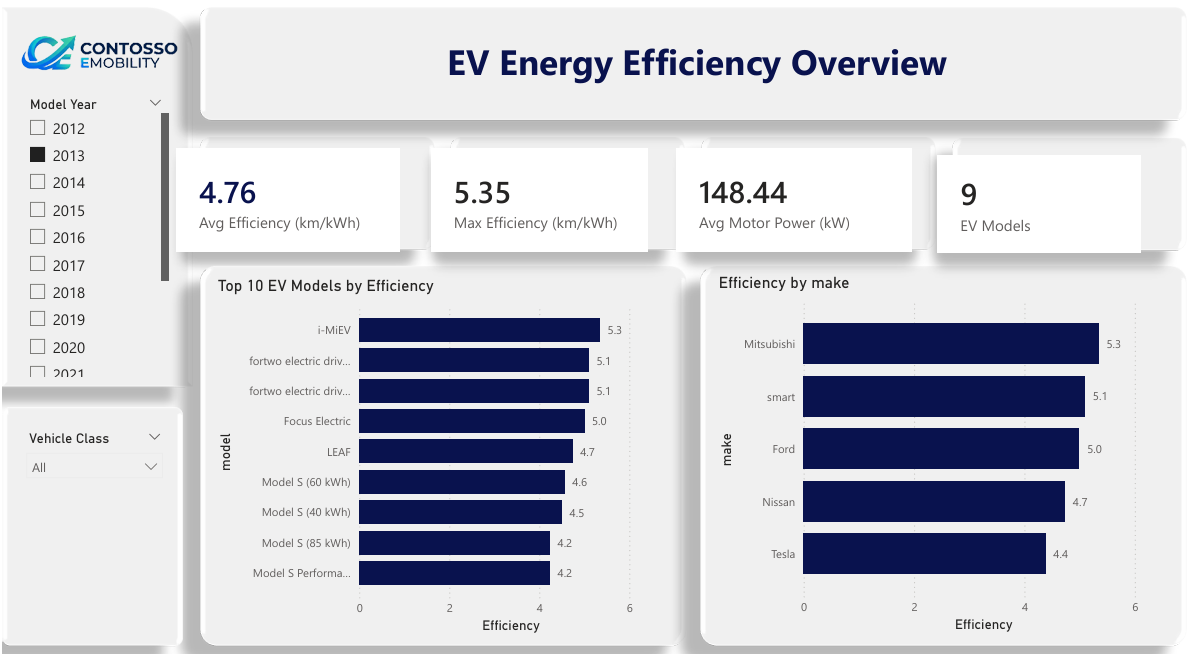

What the dashboard file says about the page in this screenshot:
{"tool":"powerbi","page":{"name":"Page 1","canvas":[1280,720],"ordinal":0},"visuals":[{"type":"clusteredBarChart","title":"Top 10 EV Models by Efficiency","fields":{"Category":["ev_metrics.model"],"Y":["Calculations.AVG Efficiency"]},"box":[222.8,312.3,486.3,382.2],"z":0},{"type":"slicer","fields":{"Values":["ev_metrics.model_year"]},"box":[16.3,117.1,164.3,305.8],"z":1},{"type":"clusteredBarChart","fields":{"Category":["ev_metrics.make"],"Y":["Calculations.AVG Efficiency"]},"box":[754,308,485.7,385.5],"z":2},{"type":"cardVisual","fields":{"Data":["Calculations.AVG Efficiency"]},"box":[178.9,172.4,247.2,120.4],"z":3},{"type":"cardVisual","fields":{"Data":["Calculations.Max Efficiency"]},"box":[448.9,172.4,239.1,120.4],"z":4},{"type":"slicer","fields":{"Values":["ev_metrics.vehicle_class"]},"box":[15.1,470.6,164.4,223],"z":5},{"type":"cardVisual","fields":{"Data":["Calculations.AVG Motor Power"]},"box":[709.2,172.4,260.2,120.4],"z":6},{"type":"textbox","box":[203.3,53.7,1065.4,96],"z":7},{"type":"cardVisual","fields":{"Data":["Calculations.No. of EV models"]},"box":[985.7,178.9,226.1,113.9],"z":8}]}

Visuals, with their boxes in screenshot pixels (x1, y1, x2, y2), scaled from the page's 1280x720 canvas onto the 1194x654 screenshot:
"Top 10 EV Models by Efficiency" clusteredBarChart: {"left": 208, "top": 284, "right": 661, "bottom": 631}
slicer - ev_metrics.model_year: {"left": 15, "top": 106, "right": 168, "bottom": 384}
clusteredBarChart - ev_metrics.make x Calculations.AVG Efficiency: {"left": 703, "top": 280, "right": 1156, "bottom": 630}
cardVisual - Calculations.AVG Efficiency: {"left": 167, "top": 157, "right": 397, "bottom": 266}
cardVisual - Calculations.Max Efficiency: {"left": 419, "top": 157, "right": 642, "bottom": 266}
slicer - ev_metrics.vehicle_class: {"left": 14, "top": 427, "right": 167, "bottom": 630}
cardVisual - Calculations.AVG Motor Power: {"left": 662, "top": 157, "right": 904, "bottom": 266}
textbox: {"left": 190, "top": 49, "right": 1183, "bottom": 136}
cardVisual - Calculations.No. of EV models: {"left": 919, "top": 163, "right": 1130, "bottom": 266}
